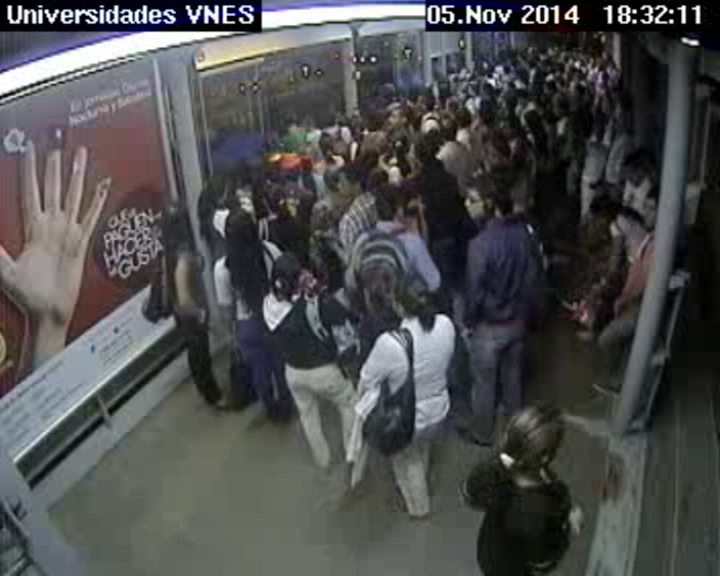person: (500, 397, 565, 474), (385, 273, 431, 323), (269, 248, 308, 292), (464, 173, 502, 215), (222, 206, 260, 247), (158, 198, 194, 241), (200, 175, 229, 207), (643, 190, 668, 226), (263, 185, 291, 214), (621, 153, 647, 181), (374, 190, 400, 218), (338, 169, 362, 196), (590, 194, 612, 221), (485, 141, 508, 165), (438, 116, 460, 139), (322, 166, 342, 191), (317, 134, 339, 156), (389, 130, 410, 153), (612, 111, 632, 134), (296, 155, 316, 178), (370, 168, 389, 192), (416, 92, 436, 114), (413, 143, 435, 163), (389, 106, 410, 126), (267, 159, 287, 180), (359, 148, 378, 169), (367, 111, 387, 130), (455, 108, 472, 127), (427, 130, 444, 149), (524, 112, 542, 129), (379, 83, 397, 100), (338, 127, 356, 144), (555, 96, 572, 113), (479, 99, 496, 116), (499, 120, 517, 136), (240, 172, 254, 189), (325, 113, 339, 128), (505, 95, 519, 109), (574, 84, 585, 96), (469, 85, 480, 97), (519, 90, 531, 101), (483, 84, 494, 95), (457, 89, 468, 100), (543, 60, 553, 72), (601, 72, 611, 83), (556, 48, 566, 59), (543, 83, 554, 93), (515, 68, 525, 78), (535, 71, 545, 81), (557, 78, 567, 88), (440, 87, 450, 97), (587, 54, 596, 64), (538, 94, 547, 104), (476, 58, 485, 67), (499, 51, 508, 60), (598, 62, 606, 71), (546, 46, 554, 55), (564, 48, 572, 57), (572, 49, 580, 58), (571, 70, 579, 78), (528, 60, 536, 68), (511, 58, 519, 66), (503, 66, 511, 74), (488, 64, 496, 72), (525, 46, 533, 54), (602, 52, 610, 60), (587, 74, 594, 82), (532, 55, 539, 63), (602, 87, 609, 95), (508, 82, 515, 90), (579, 52, 586, 59), (559, 64, 566, 71), (588, 63, 595, 70)
